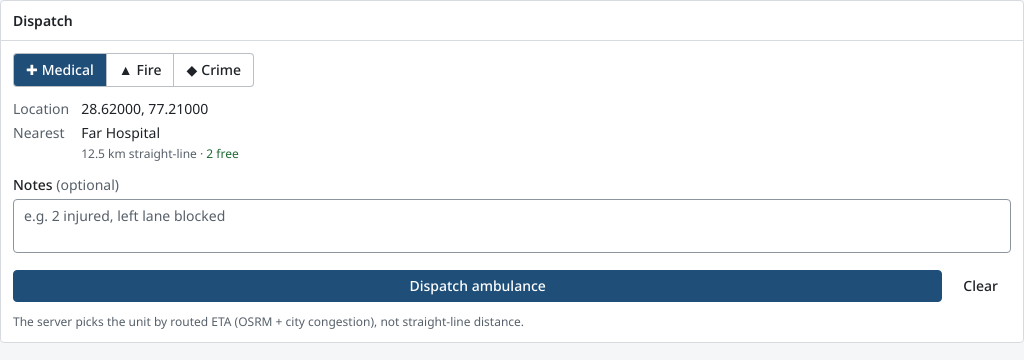
DispatchPanel › dispatches and selects the vehicle on 201
Type "two injured" into the text box labelled "Notes (optional)" at (512, 226), box 13,199 -> 1011,253
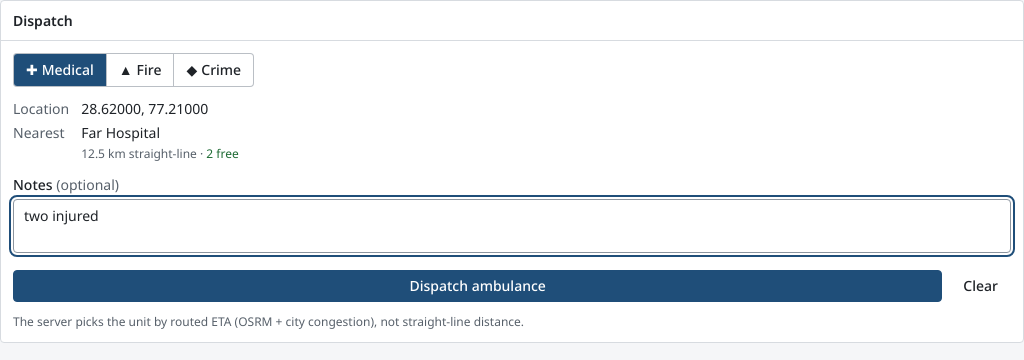
Click the button "Dispatch ambulance" at (478, 286), box 13,270 -> 942,302
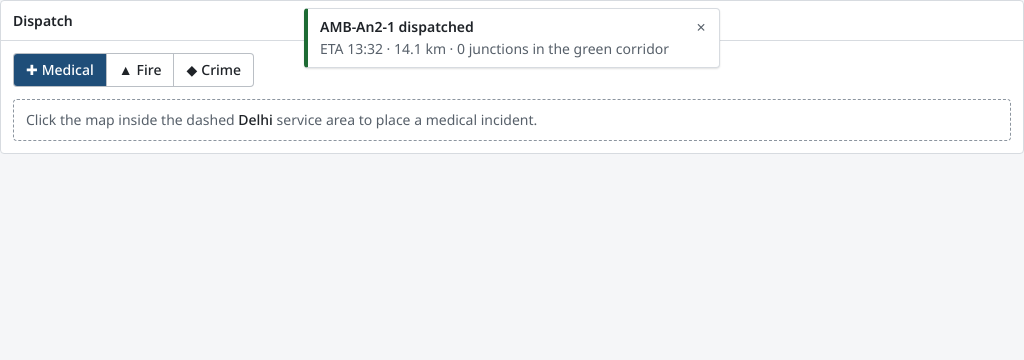
Check: the text "AMB-An2-1 dispatched" is shown, box 319,16 -> 474,36
